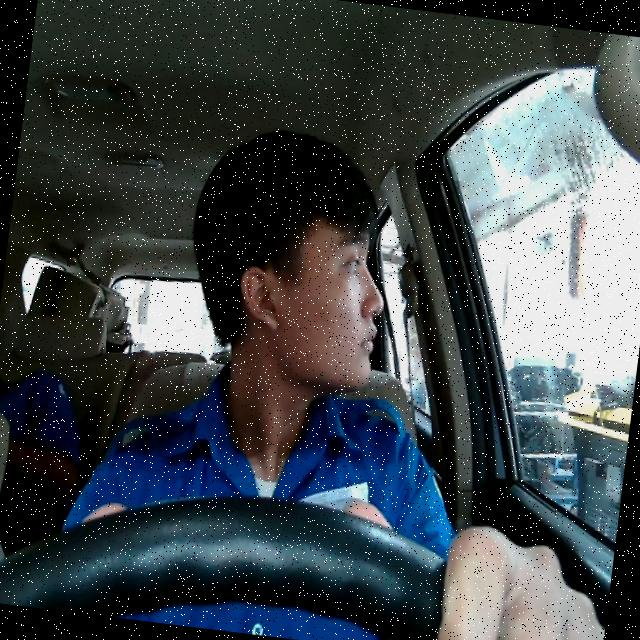seeing_right: (224, 202, 394, 397)
